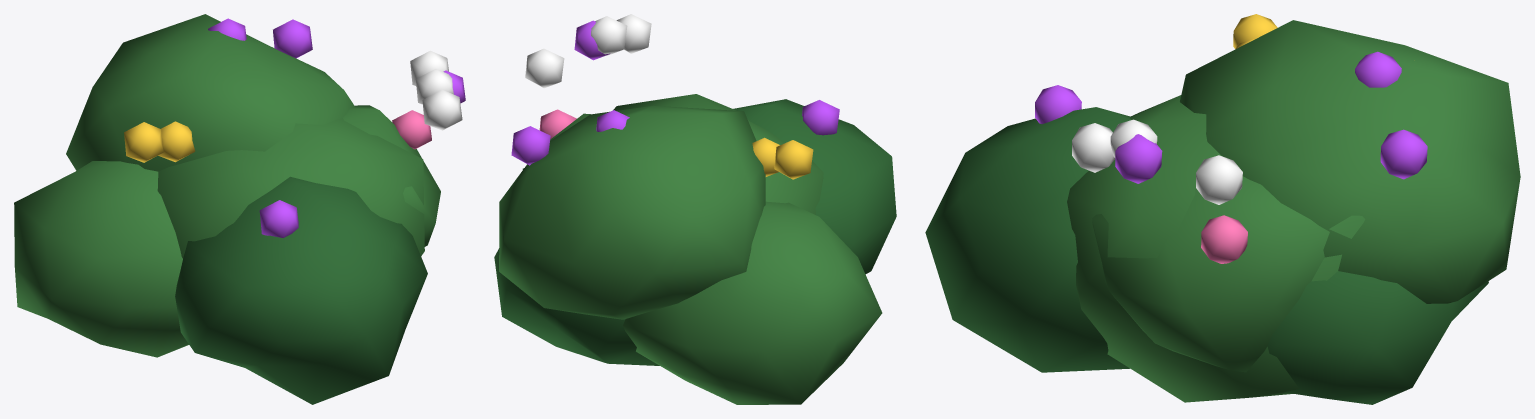
The model's file is nature_bush_flower.glb.
3 views of the same model, side by side, from view 1: azimuth 30°, elevation 25°; view 2: azimuth 150°, elevation 25°; view 3: azimuth 270°, elevation 25° (orthographic). The views are drawn at different scales.
Parts seen in each view (by area): view 1: nature_bush_flower; view 2: nature_bush_flower; view 3: nature_bush_flower.
Boxes of the visible parts, x1,y1,x2,y2 form: nature_bush_flower: [14, 14, 465, 404]; nature_bush_flower: [494, 14, 896, 404]; nature_bush_flower: [925, 14, 1520, 404].
Bounding box in the file's own units: 1.36 × 0.9822 × 1.51.
